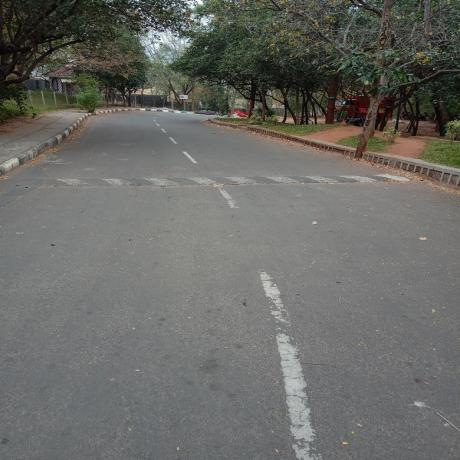Speed Bump: (1, 173, 419, 187)
